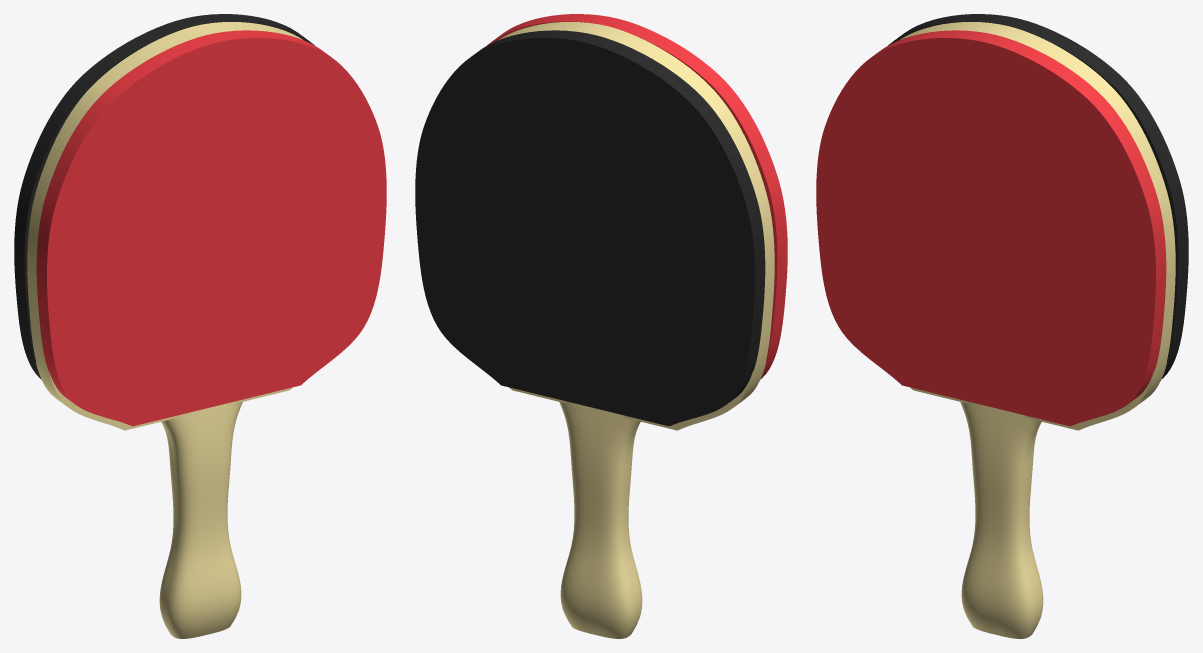
File: paddle_wood__665bb45e623a.glb
The picture shows the model from 3 angles, left to right: view 1: azimuth 30°, elevation 25°; view 2: azimuth 150°, elevation 25°; view 3: azimuth 330°, elevation 25°; orthographic projection.
Visible parts, largest first — view 1: red_sheet, wood_grip, core, dark_sheet; view 2: dark_sheet, wood_grip, core, red_sheet; view 3: red_sheet, wood_grip, core, dark_sheet.
Boxes of the visible parts, x1,y1,x2,y2 form: red_sheet: (36, 30, 386, 426); wood_grip: (159, 401, 242, 638); core: (27, 22, 302, 430); dark_sheet: (14, 14, 314, 379); dark_sheet: (415, 30, 765, 426); wood_grip: (559, 401, 642, 638); core: (499, 22, 774, 430); red_sheet: (487, 14, 787, 379); red_sheet: (816, 30, 1166, 426); wood_grip: (960, 401, 1043, 638); core: (900, 22, 1175, 430); dark_sheet: (888, 14, 1188, 379).
Bounding box in the file's own units: 0.1223 × 0.206 × 0.0204.
